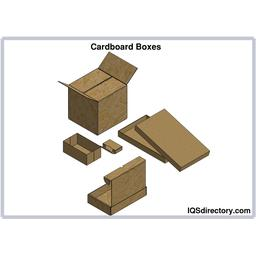cardboard: (51, 50, 147, 127), (82, 157, 156, 216), (58, 130, 113, 172)
